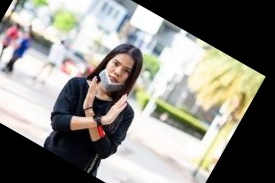mask_weared_incorrect: (98, 51, 136, 95)
